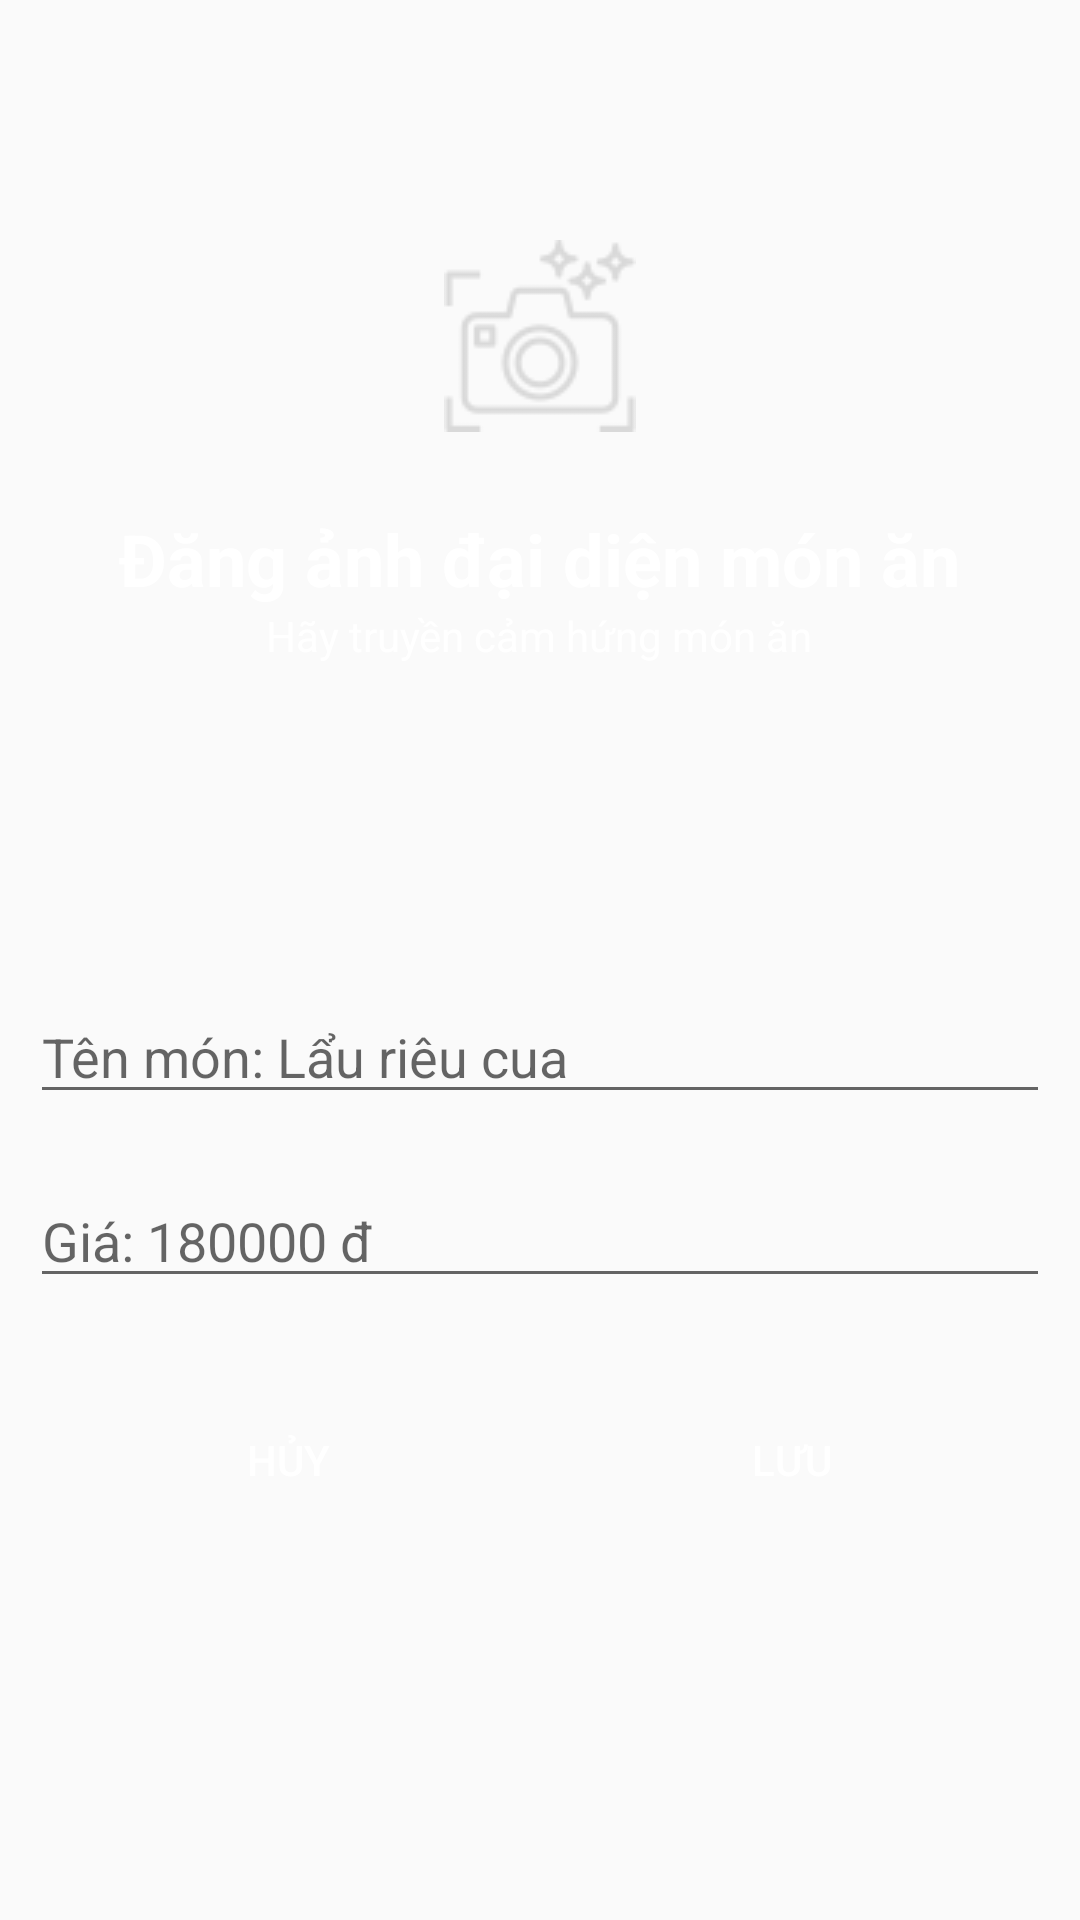

Icon click points for this 1080*1920 phone screenshot, format point (x, y):
camera: point (540, 336)
